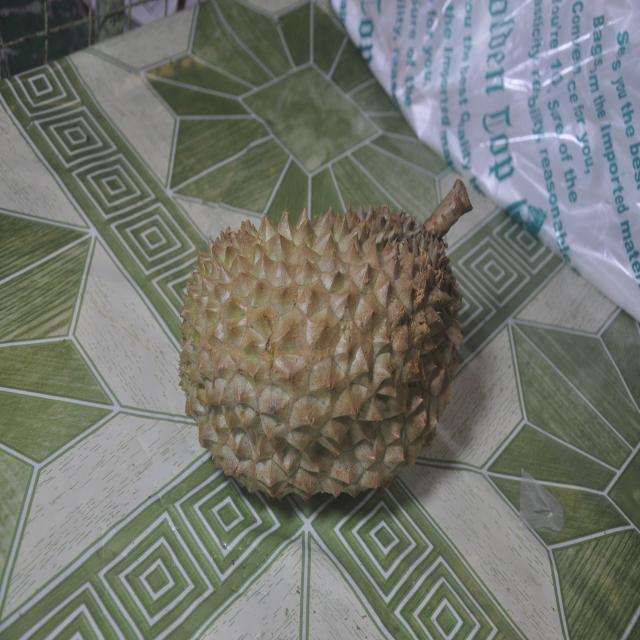mature: (179, 179, 472, 499)
